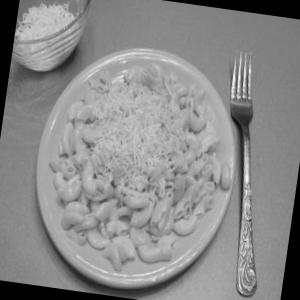pasta: (31, 50, 250, 286)
